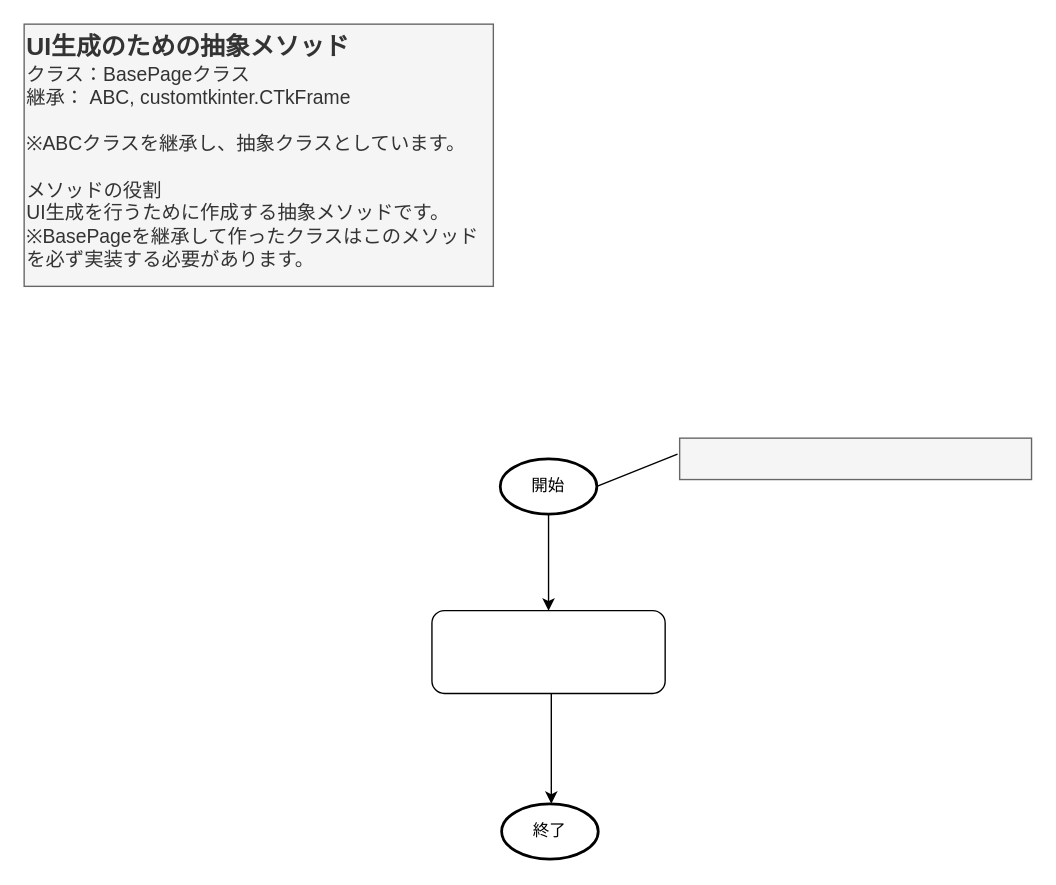
This 1056x885 diagram has some shape labels left out. The shapes that lost their labels are listed below. From the top down, each one's centre as x and y in pixels, then its label:
At (x=855, y=458): "引数１：self".
At (x=548, y=651): "なし".
